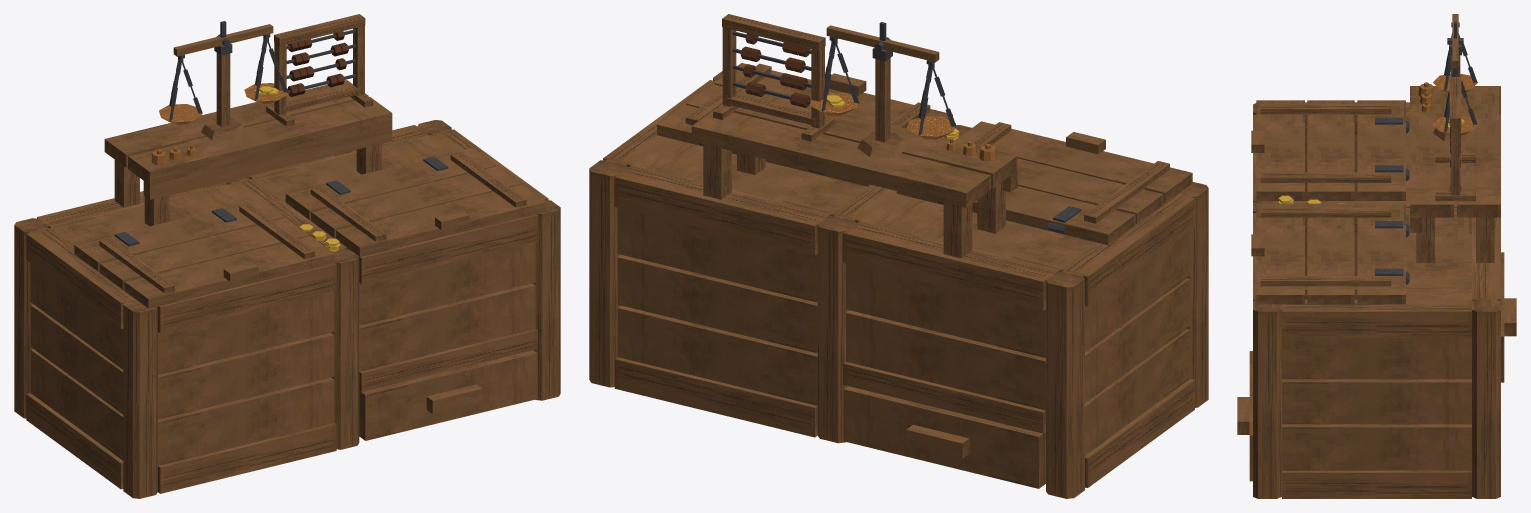
The model's file is tradebox.glb.
The picture shows the model from 3 angles, left to right: view 1: azimuth 30°, elevation 25°; view 2: azimuth 150°, elevation 25°; view 3: azimuth 270°, elevation 25°; orthographic projection. The views are drawn at different scales.
Visible parts, largest first — view 1: base_cabinet, shelf, lid_payment, lid_shop, payment_drawer, abacus, balance_scale, scale_beam, scale_pan_L, scale_pan_R; view 2: base_cabinet, shelf, lid_shop, gold_drawer, abacus, lid_payment, balance_scale, scale_beam, scale_pan_L, scale_pan_R; view 3: base_cabinet, lid_payment, lid_shop, shelf, abacus, gold_drawer, payment_drawer, scale_pan_R, scale_pan_L, scale_beam, balance_scale, scale_weights.
Part boxes in pixels (x1,y1,x2,y2): base_cabinet: (14,120,560,498); shelf: (104,80,392,226); lid_payment: (285,148,546,256); lid_shop: (74,199,334,308); payment_drawer: (359,350,537,440); abacus: (266,14,373,126); balance_scale: (201,43,245,140); scale_beam: (173,21,273,58); scale_pan_L: (159,57,202,124); scale_pan_R: (244,36,288,103); base_cabinet: (589,71,1208,498); shelf: (691,88,1017,258); lid_shop: (896,121,1192,244); gold_drawer: (843,386,1045,488); abacus: (713,14,834,141); lid_payment: (657,63,952,186); balance_scale: (857,47,908,157); scale_beam: (826,22,939,64); scale_pan_L: (907,63,956,139); scale_pan_R: (809,39,859,115); base_cabinet: (1253,102,1500,498); lid_payment: (1251,203,1409,304); lid_shop: (1251,100,1409,200); shelf: (1410,86,1500,262); abacus: (1435,77,1475,201); gold_drawer: (1501,252,1516,382); payment_drawer: (1237,351,1252,481); scale_pan_R: (1433,69,1477,135); scale_pan_L: (1433,33,1477,93); scale_beam: (1447,14,1463,69); balance_scale: (1433,44,1477,141); scale_weights: (1418,82,1434,112).
Bounding box in the file's own units: 1.2 × 0.96 × 0.676.
Materials: 5 (5 with a texture image).
